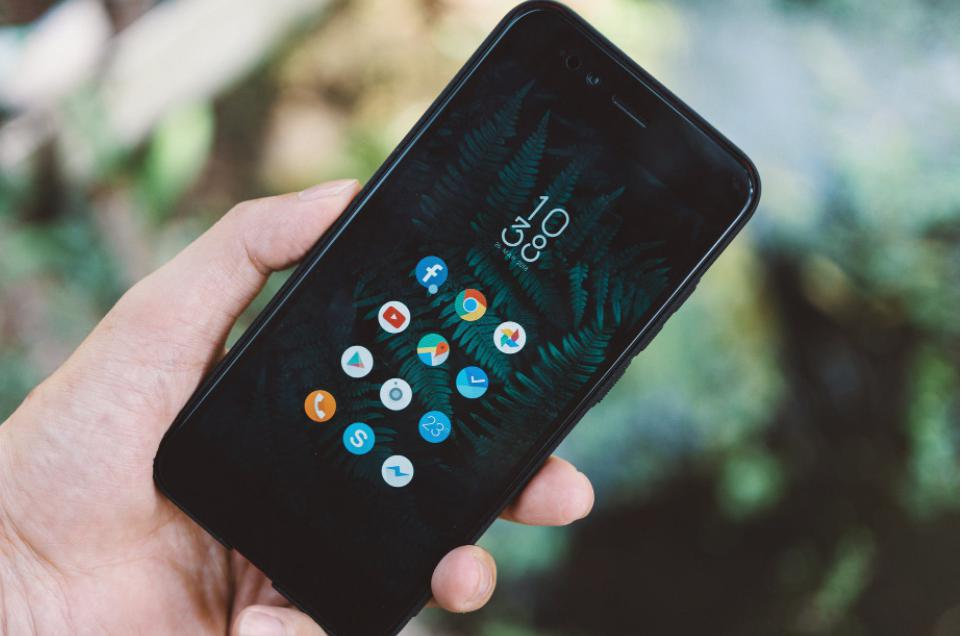mobile: (155, 1, 761, 636)
